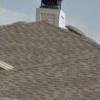Chimney: (27, 0, 68, 27)
